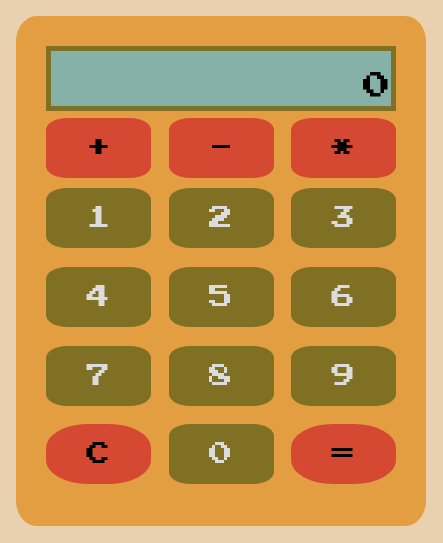
Test: My first collection of test › clicks the 2 button
This screenshot has width=443, height=543.
Click the button "2". click: click(221, 218)
box: [168,188,274,248]
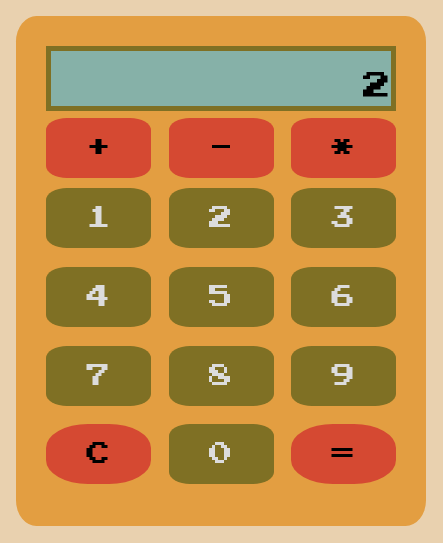
Check: the text with class "display" reads "2", box [363,72,391,100]
